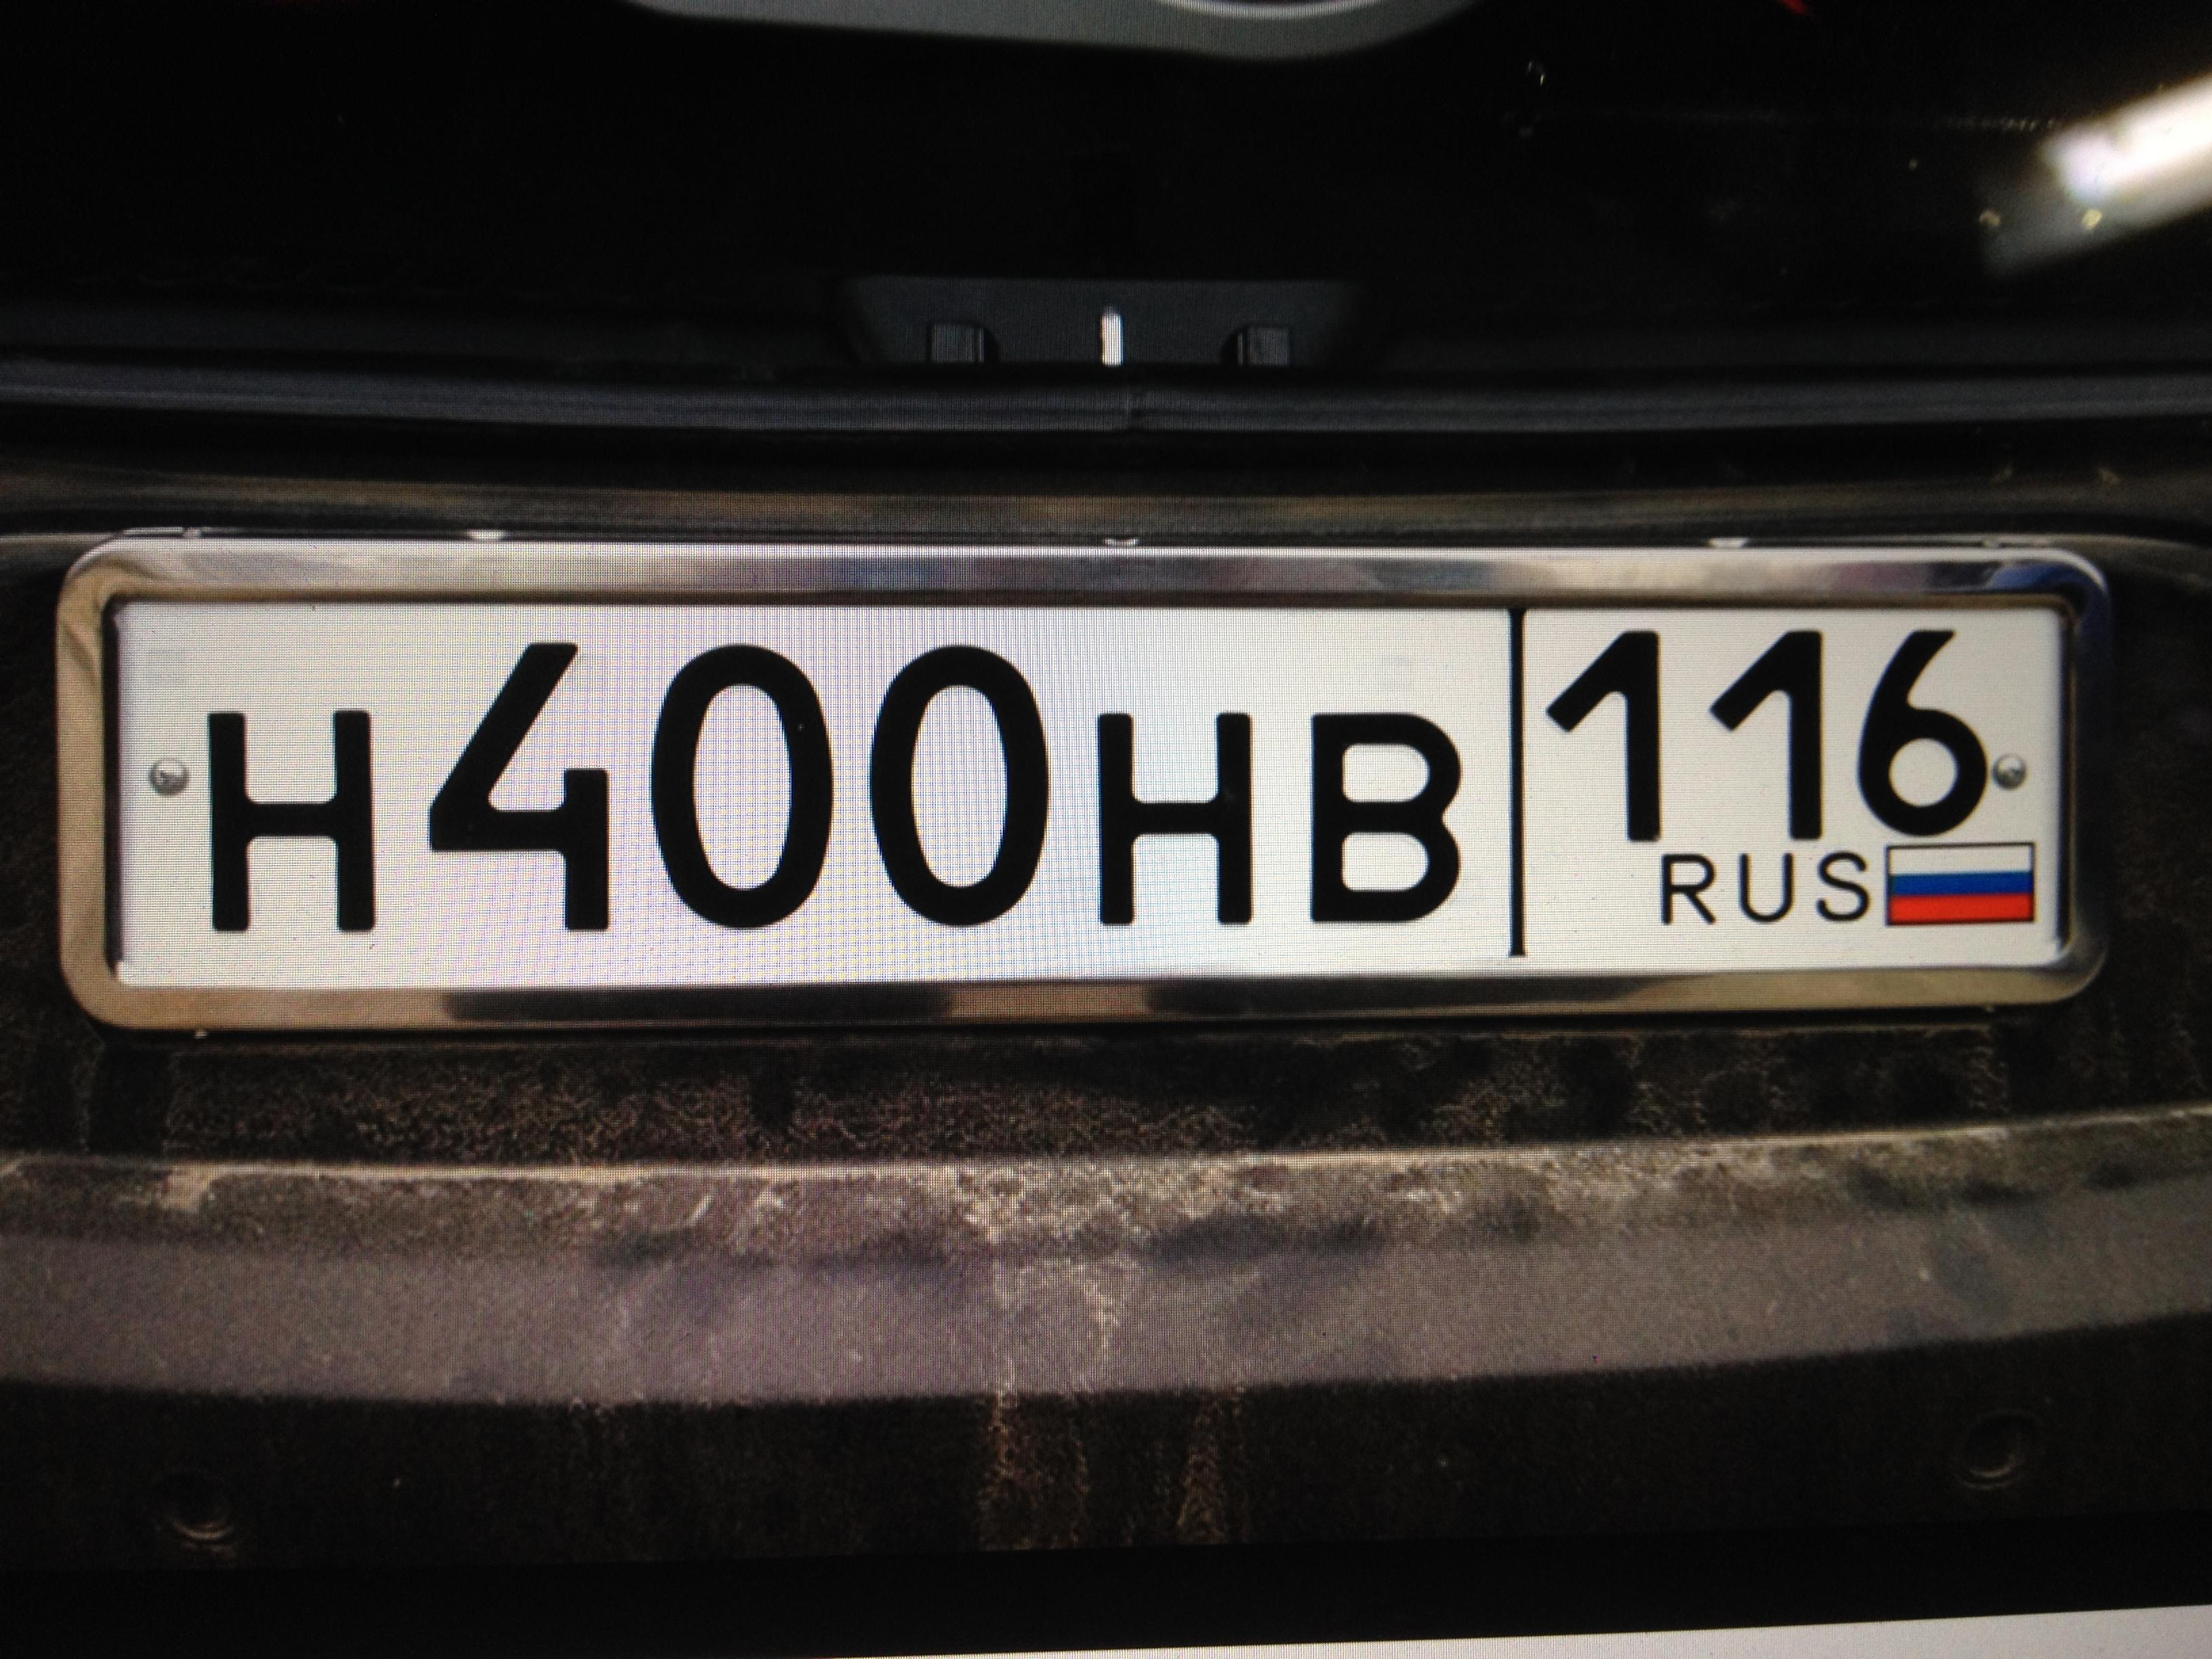license-plateSW: (81, 583, 2095, 1005)
